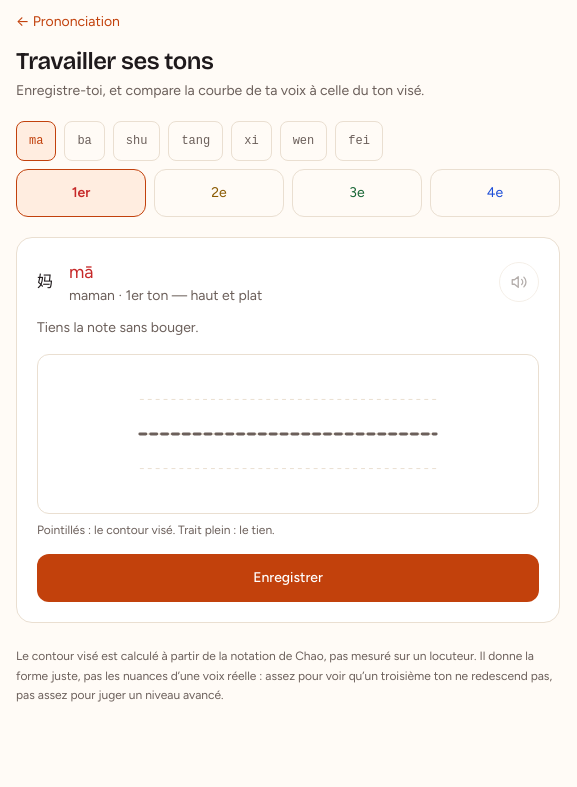
Test: exercice de prononciation › reconnaît un contour juste
Click the button "2e" at (219, 193), box [154,169,284,217]
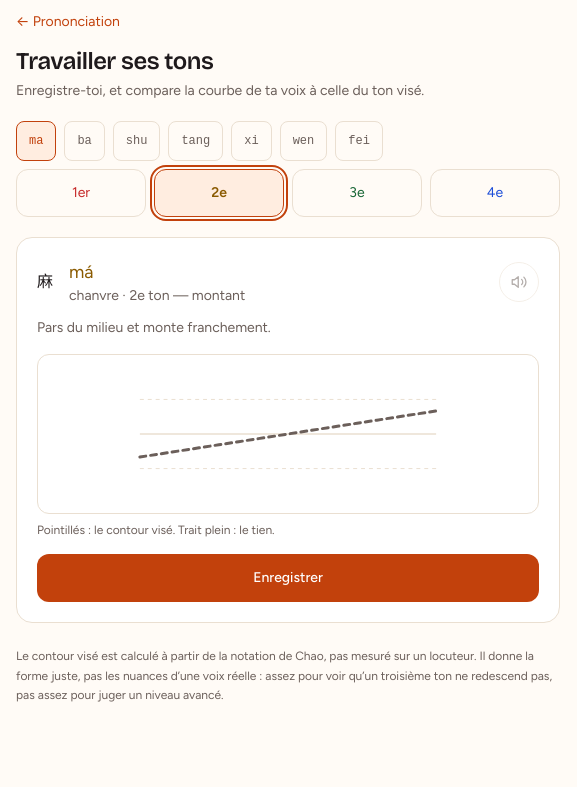
Click the button "Enregistrer" at (288, 578), box [37,554,539,602]
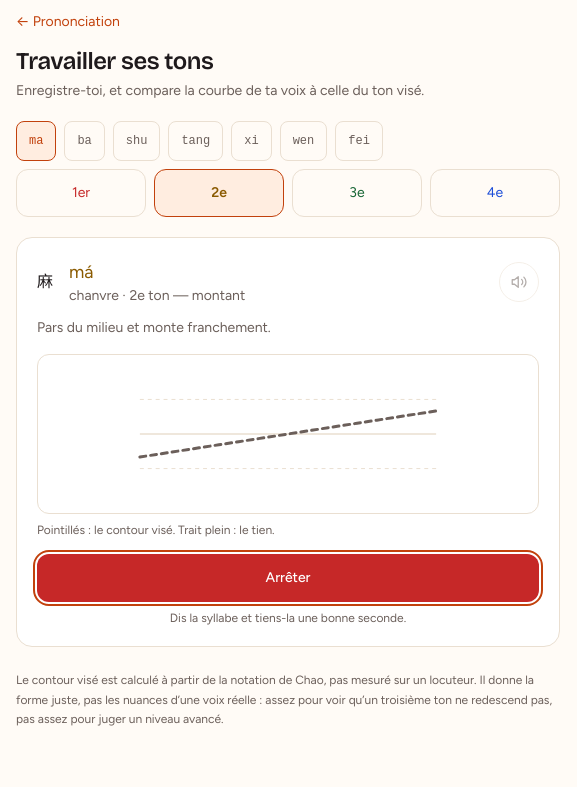
Expected: the button "Arrêter" is shown
Click the button "Arrêter" at (288, 578), box [37,554,539,602]
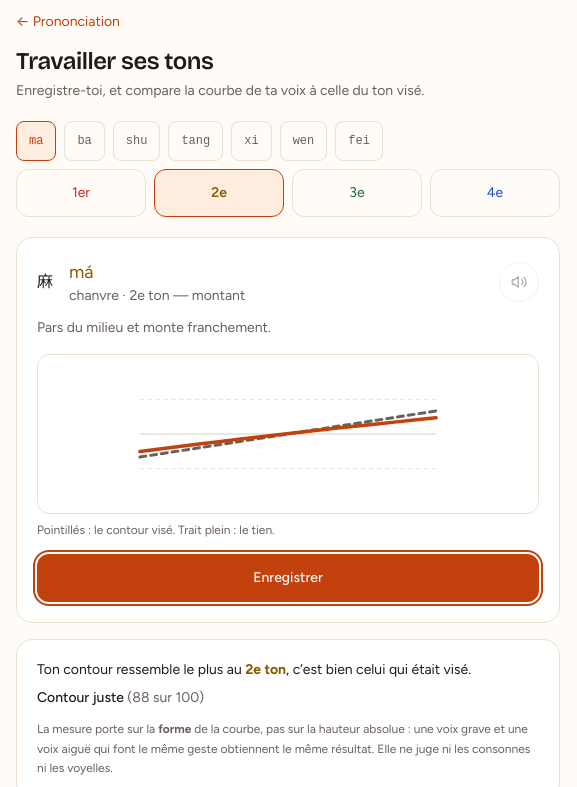
Expected: the text "Contour juste (88 sur 100)" is shown, [37,689,204,706]
Expected: the text "c’est bien celui qui était visé" is shown, [286,661,471,678]
